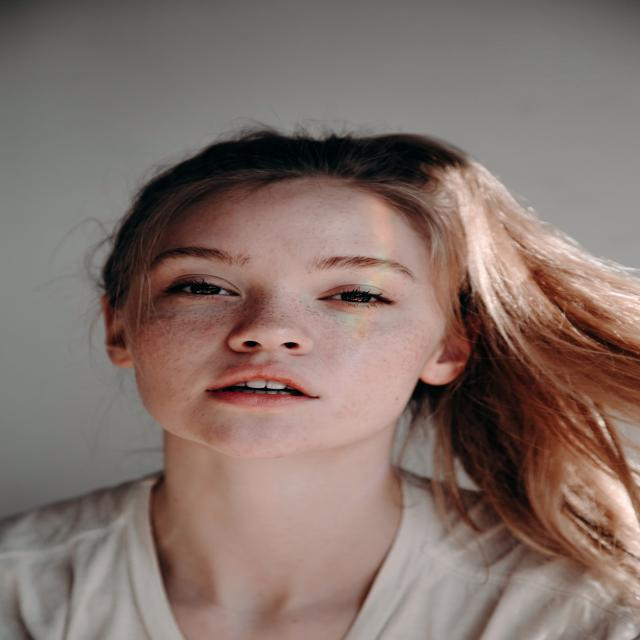adult: (0, 130, 638, 640)
